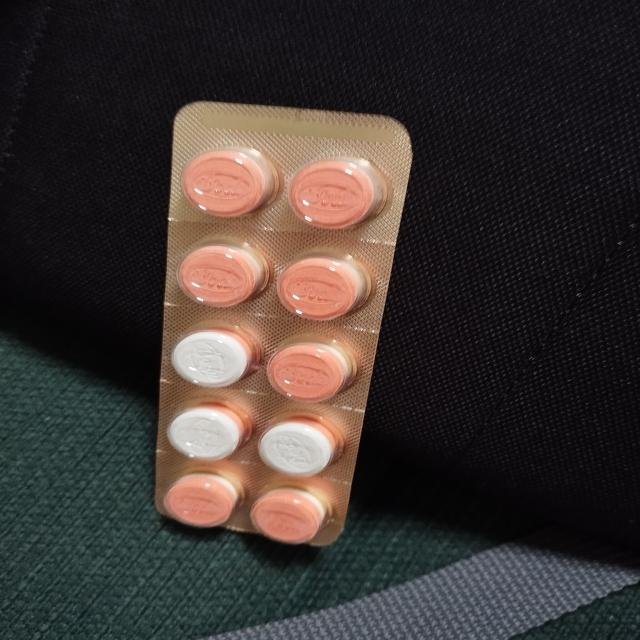B3: (154, 99, 411, 555)
